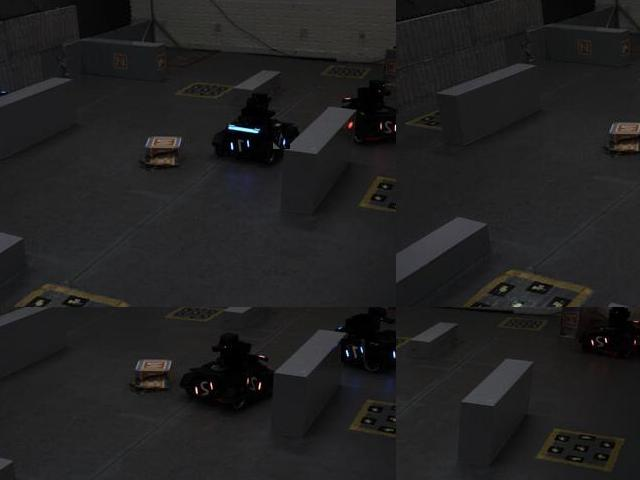armor: (241, 374, 270, 397), (192, 375, 218, 400), (341, 339, 366, 363), (229, 134, 253, 157), (588, 333, 614, 352), (377, 116, 395, 138), (274, 130, 292, 150), (382, 344, 395, 363)
